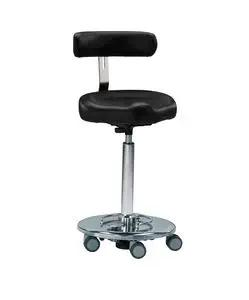chair: (72, 30, 182, 258)
